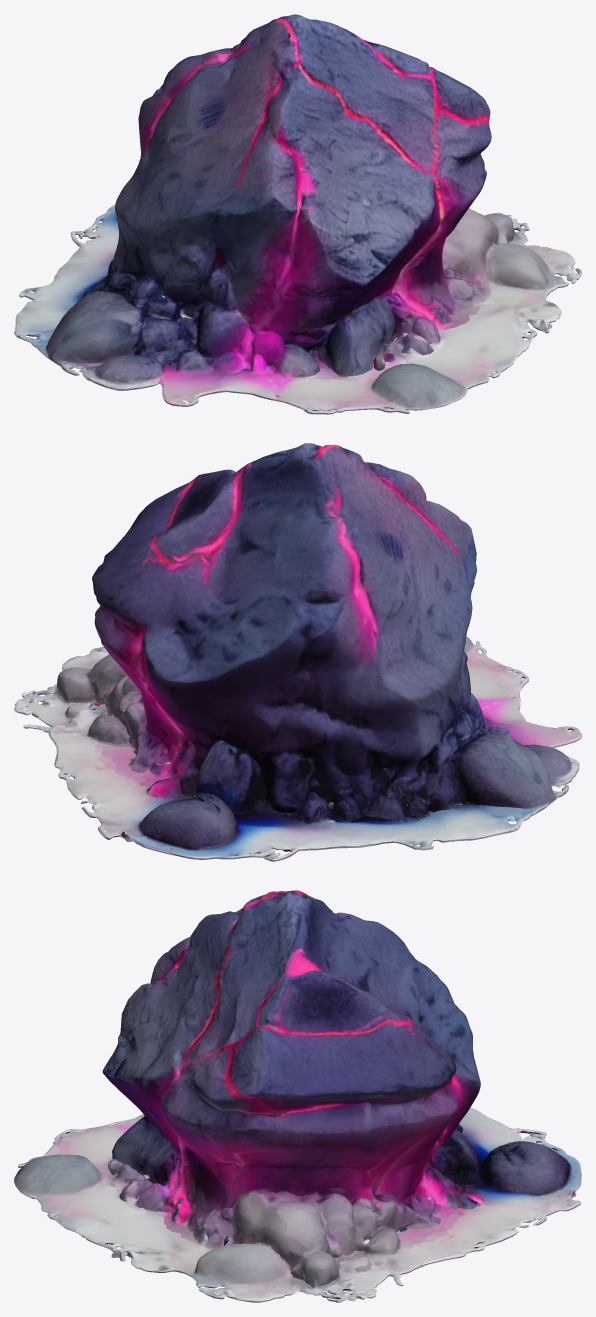
The model's file is shore-stone-14-generated-2026-05-17T20-31-35-259Z.medium.glb.
The picture shows the model from 3 angles, top to bottom: view 1: azimuth 30°, elevation 25°; view 2: azimuth 150°, elevation 25°; view 3: azimuth 270°, elevation 25°; orthographic projection. The views are drawn at different scales.
Visible parts, largest first — view 1: temp_mesh.ply; view 2: temp_mesh.ply; view 3: temp_mesh.ply.
Part boxes in pixels (bbox=[...]): temp_mesh.ply: bbox=[14, 14, 581, 414]; temp_mesh.ply: bbox=[14, 443, 581, 861]; temp_mesh.ply: bbox=[14, 890, 581, 1302].
Size of the model in its own units: 1.96 by 1.1 by 1.97.
Materials: 1 (1 with a texture image).
